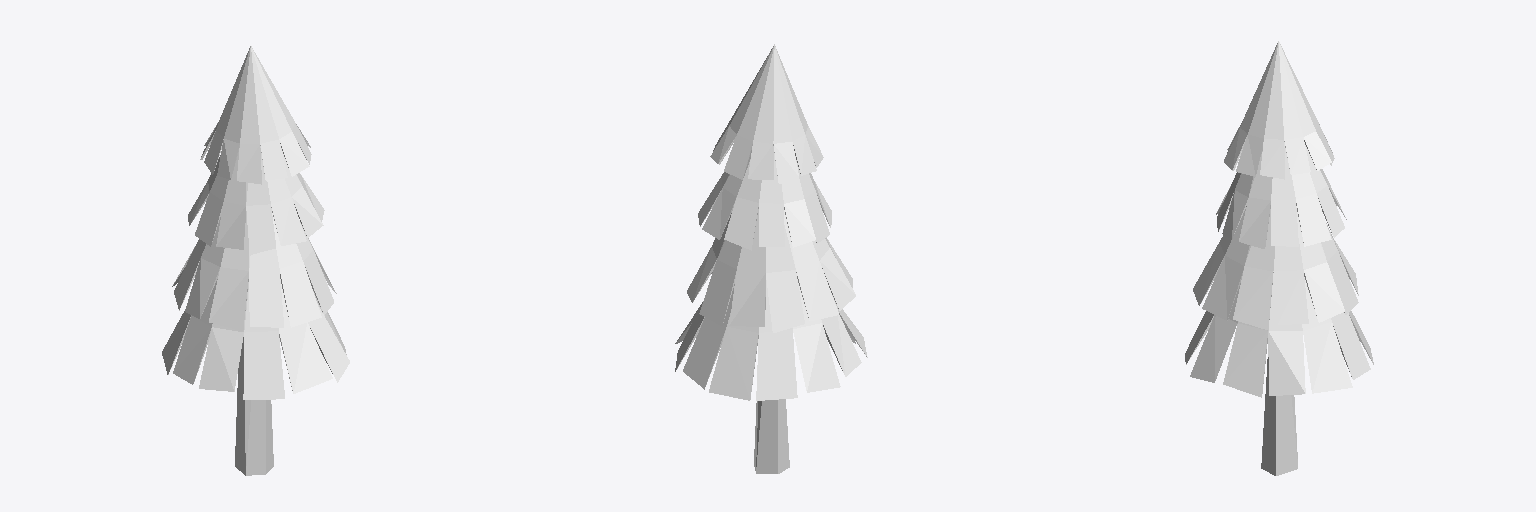
File: Tree_02.obj
The picture shows the model from 3 angles: view 1: azimuth 30°, elevation 25°; view 2: azimuth 150°, elevation 25°; view 3: azimuth 270°, elevation 25°; orthographic projection.
Parts seen in each view (by area): view 1: Tree_02; view 2: Tree_02; view 3: Tree_02.
Boxes of the visible parts, x1,y1,x2,y2 form: Tree_02: [162, 46, 349, 475]; Tree_02: [675, 44, 867, 473]; Tree_02: [1185, 41, 1373, 475].
Size of the model in its own units: 1.67 by 4.22 by 1.7.